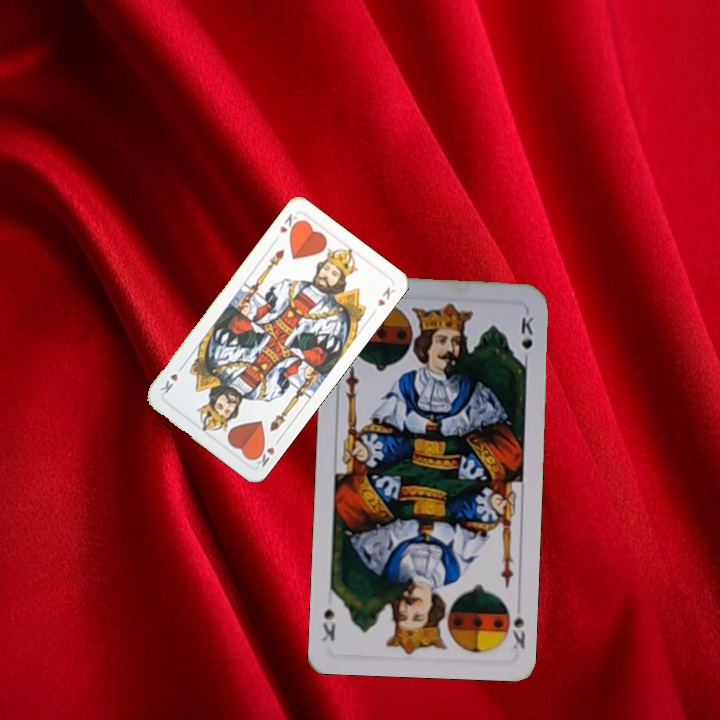HK: (249, 434, 283, 469), (276, 209, 302, 238)
SK: (508, 610, 528, 651)
